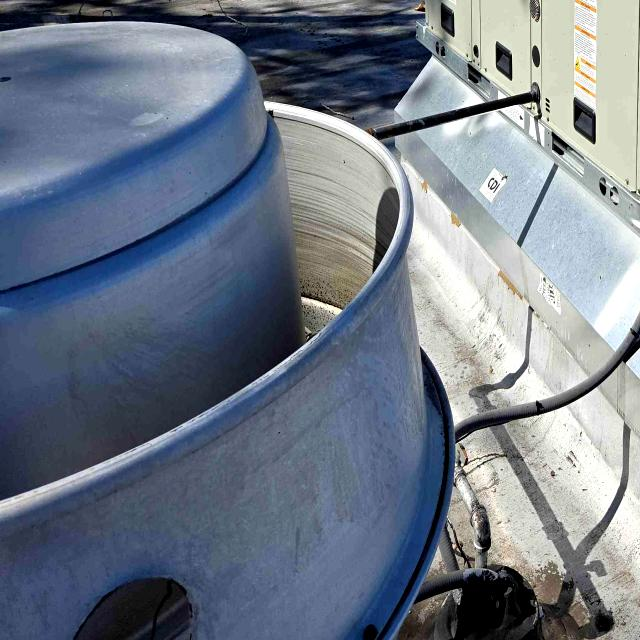GRAVITY-VENT: (0, 11, 450, 640)
RTU: (397, 0, 640, 260)
